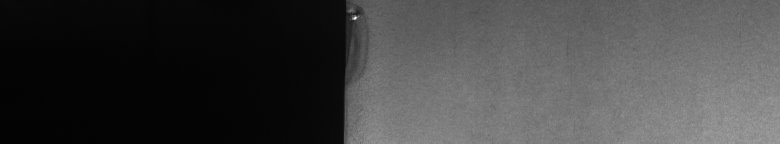hb: (356, 4, 372, 80)
